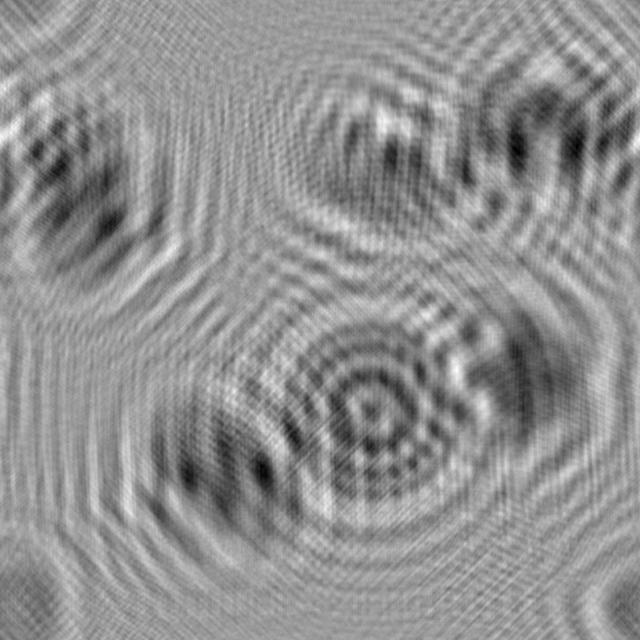K: (404, 233, 640, 514)
L: (237, 24, 499, 285)
M: (411, 0, 640, 266)
N: (66, 341, 329, 612), (0, 67, 217, 332)
O: (234, 283, 500, 544)
